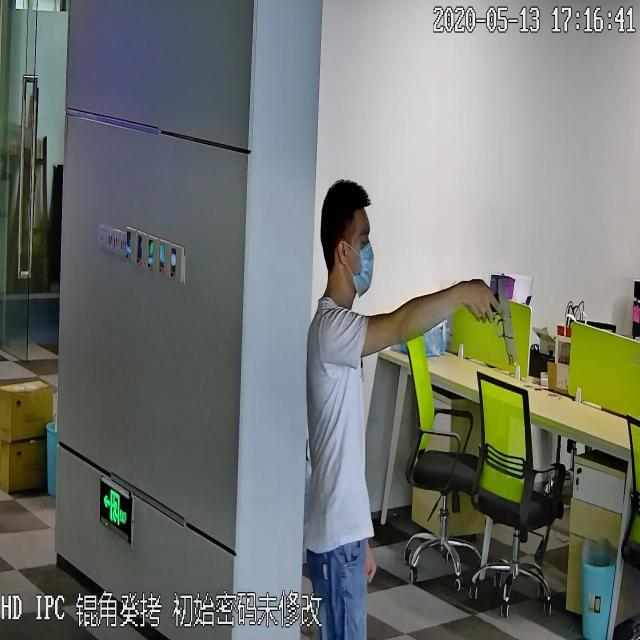gun: (473, 266, 519, 372)
